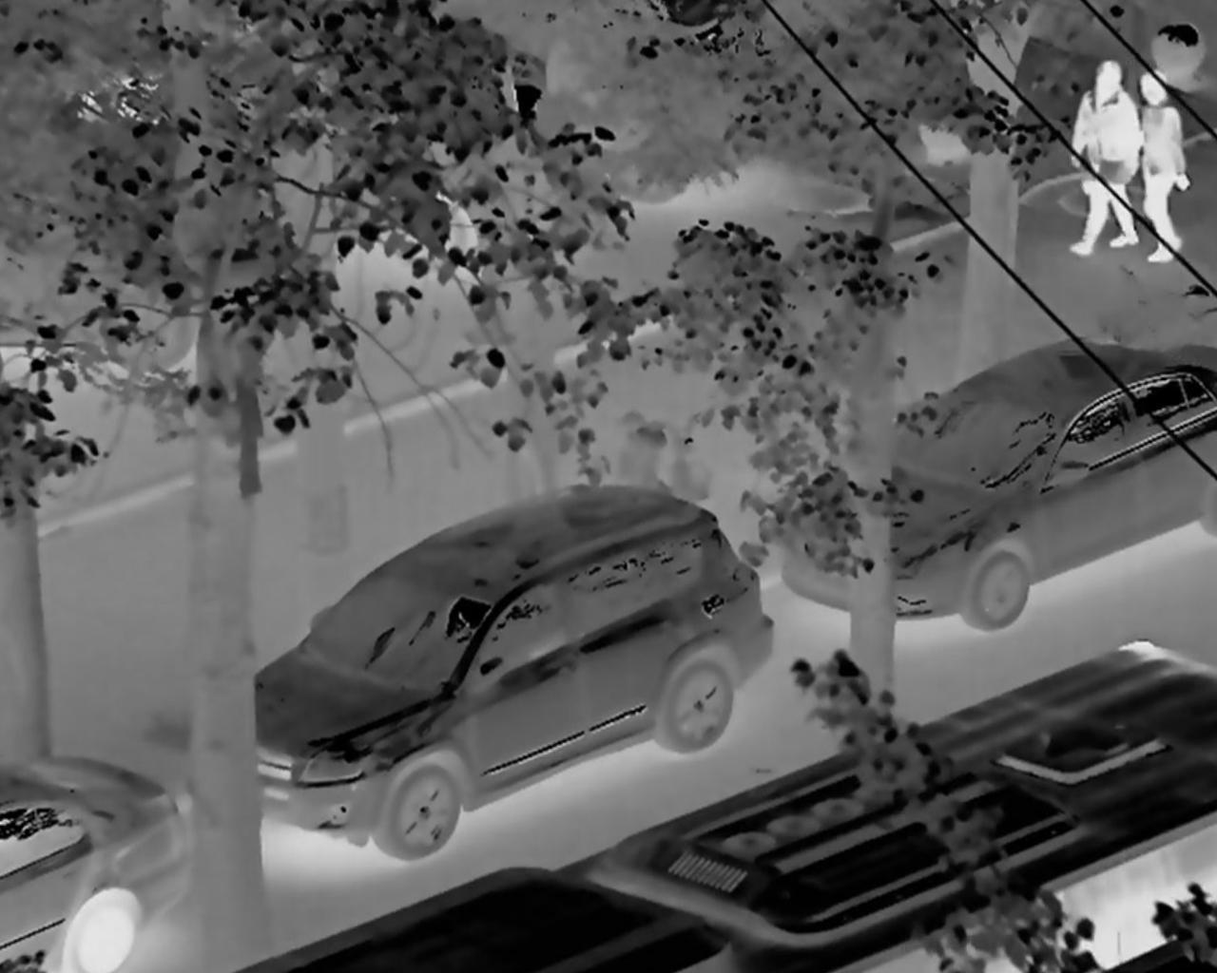person: (1053, 53, 1142, 277), (1115, 52, 1200, 282)
